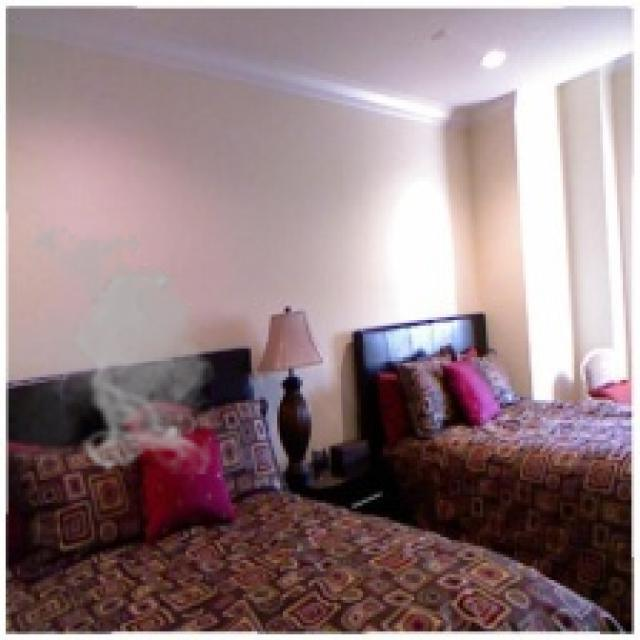Smoke: (8, 217, 223, 474)
